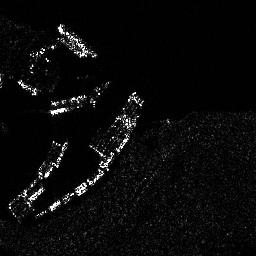ship: (56, 21, 97, 59)
